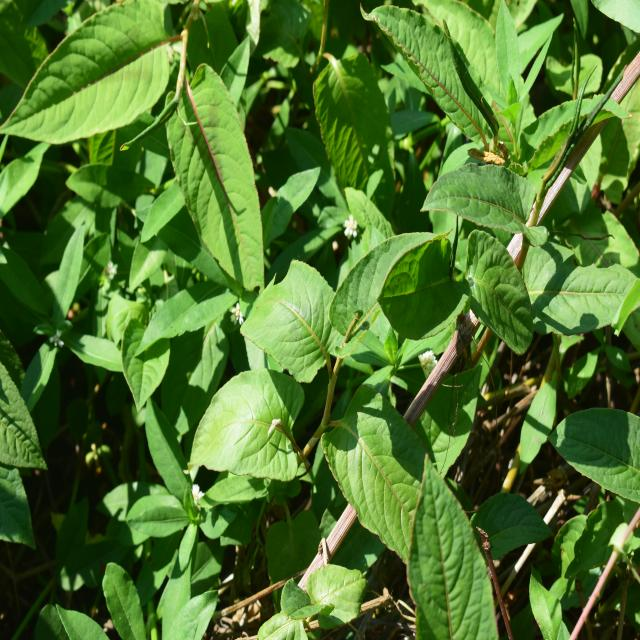Chinese_knotweed: (236, 256, 478, 568), (361, 123, 607, 364)
